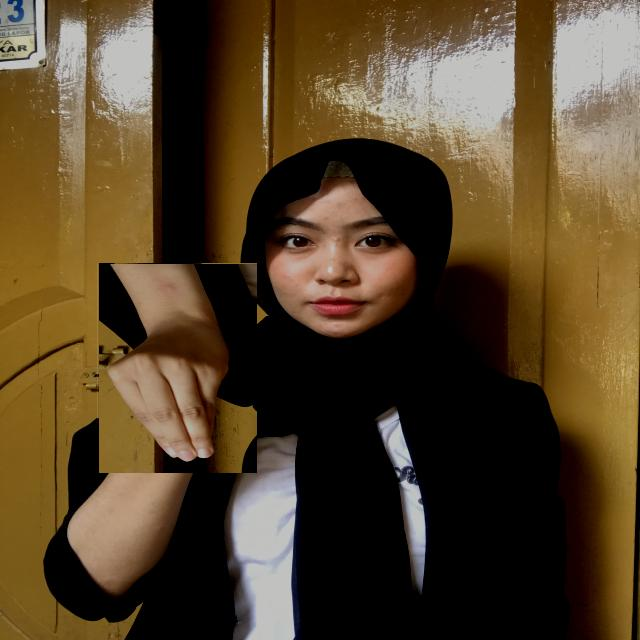kapan: (96, 263, 256, 473)
